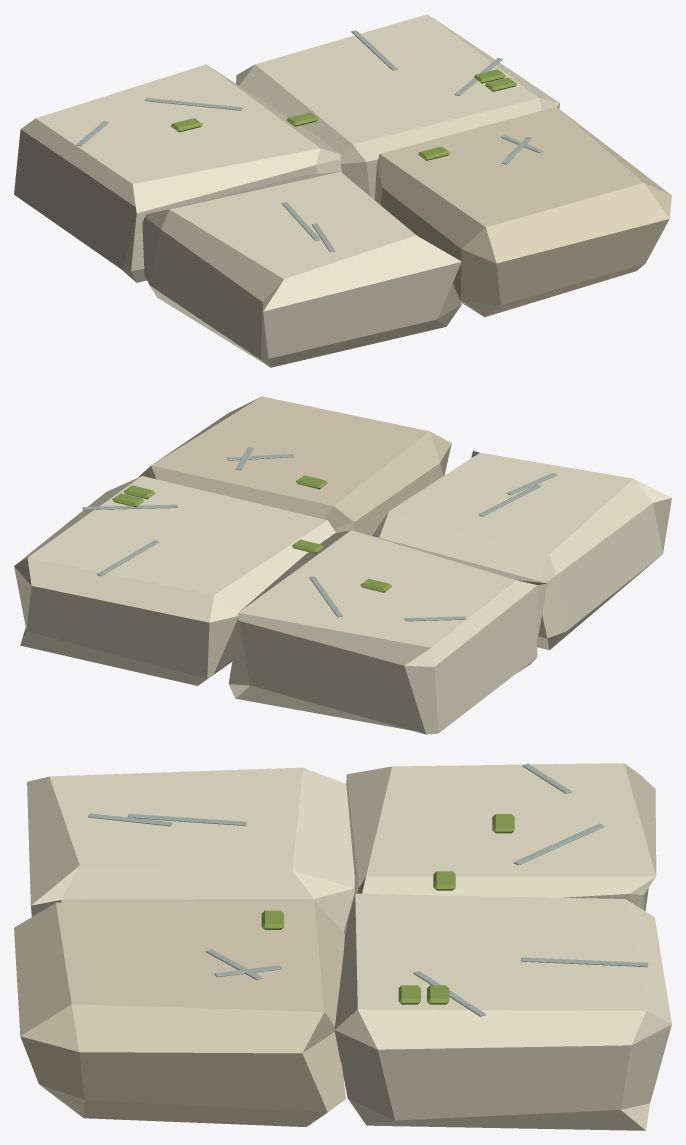
Rendered from slab_weathered_light.glb.
3 views of the same model, one above another, from view 1: azimuth 30°, elevation 25°; view 2: azimuth 150°, elevation 25°; view 3: azimuth 270°, elevation 25° (orthographic). The views are drawn at different scales.
Parts seen in each view (by area): view 1: slab_weathered_light; view 2: slab_weathered_light; view 3: slab_weathered_light.
Boxes of the visible parts, x1=… form: slab_weathered_light: x1=14, y1=14, x2=671, y2=367; slab_weathered_light: x1=14, y1=396, x2=671, y2=734; slab_weathered_light: x1=14, y1=763, x2=671, y2=1130.
Bounding box in the file's own units: 1.02 × 0.211 × 1.03.
